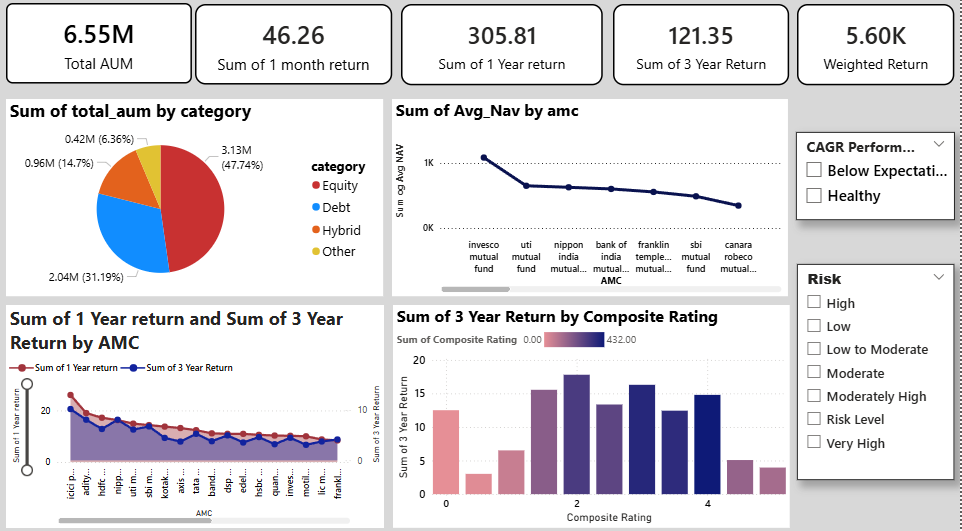

The page's visual inventory and layout, read from the dashboard file:
{"tool":"powerbi","page":{"name":"Page 1","canvas":[1280,720],"ordinal":0},"visuals":[{"type":"lineChart","fields":{"Y":["Sum(Mutual_fund Data.1 Year return)"],"Y2":["Sum(Mutual_fund Data.3 Year Return)"],"Category":["Mutual_fund Data.AMC"]},"box":[13.2,414.1,502,295.6],"z":0},{"type":"card","fields":{"Values":["Mutual_fund Data.Total AUM"]},"box":[13.3,13.3,246.7,106.7],"z":1000},{"type":"card","fields":{"Values":["Sum(Mutual_fund Data.1 month return)"]},"box":[265,15,261.7,106.7],"z":2000},{"type":"card","fields":{"Values":["Sum(Mutual_fund Data.1 Year return)"]},"box":[538.3,15,268.3,108.3],"z":3000},{"type":"card","fields":{"Values":["Sum(Mutual_fund Data.3 Year Return)"]},"box":[819.5,14.6,234.1,108.3],"z":4000},{"type":"card","fields":{"Values":["Mutual_fund Data.Weighted Return"]},"box":[1063.9,14.6,209.3,108.3],"z":5000},{"type":"pieChart","fields":{"Y":["Sum(mutualfund totalaum_by_category.total_aum)"],"Category":["mutualfund totalaum_by_category.category"]},"box":[13,140.6,501.4,262.3],"z":6000},{"type":"lineChart","fields":{"Category":["mutualfund avgnav_amcwise.amc"],"Y":["Sum(mutualfund avgnav_amcwise.Avg_Nav)"]},"box":[526.2,140.4,526.2,261.6],"z":7000},{"type":"slicer","fields":{"Values":["Mutual_fund Data.Risk"]},"box":[1063.9,360,209.3,286.8],"z":8000},{"type":"columnChart","fields":{"Category":["Mutual_fund Data.Composite Rating"],"Y":["Sum(Mutual_fund Data.3 Year Return)"]},"box":[526.8,414.1,526.8,295.6],"z":9000},{"type":"slicer","fields":{"Values":["Mutual_fund Data.CAGR Performance"]},"box":[1062.4,184.4,210.7,117.1],"z":10000}]}

Visuals, with their boxes in screenshot pixels (x1, y1, x2, y2), scaled from the page's 1280x720 canvas onto the 962x531 screenshot:
lineChart - Sum(Mutual_fund Data.1 Year return) x Sum(Mutual_fund Data.3 Year Return): Rect(10, 305, 387, 523)
card - Mutual_fund Data.Total AUM: Rect(10, 10, 195, 88)
card - Sum(Mutual_fund Data.1 month return): Rect(199, 11, 396, 90)
card - Sum(Mutual_fund Data.1 Year return): Rect(405, 11, 606, 91)
card - Sum(Mutual_fund Data.3 Year Return): Rect(616, 11, 792, 91)
card - Mutual_fund Data.Weighted Return: Rect(800, 11, 957, 91)
pieChart - Sum(mutualfund totalaum_by_category.total_aum) x mutualfund totalaum_by_category.category: Rect(10, 104, 387, 297)
lineChart - mutualfund avgnav_amcwise.amc x Sum(mutualfund avgnav_amcwise.Avg_Nav): Rect(395, 104, 791, 296)
slicer - Mutual_fund Data.Risk: Rect(800, 266, 957, 477)
columnChart - Mutual_fund Data.Composite Rating x Sum(Mutual_fund Data.3 Year Return): Rect(396, 305, 792, 523)
slicer - Mutual_fund Data.CAGR Performance: Rect(798, 136, 957, 222)
